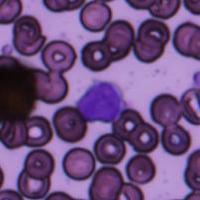L: (75, 78, 127, 122)
